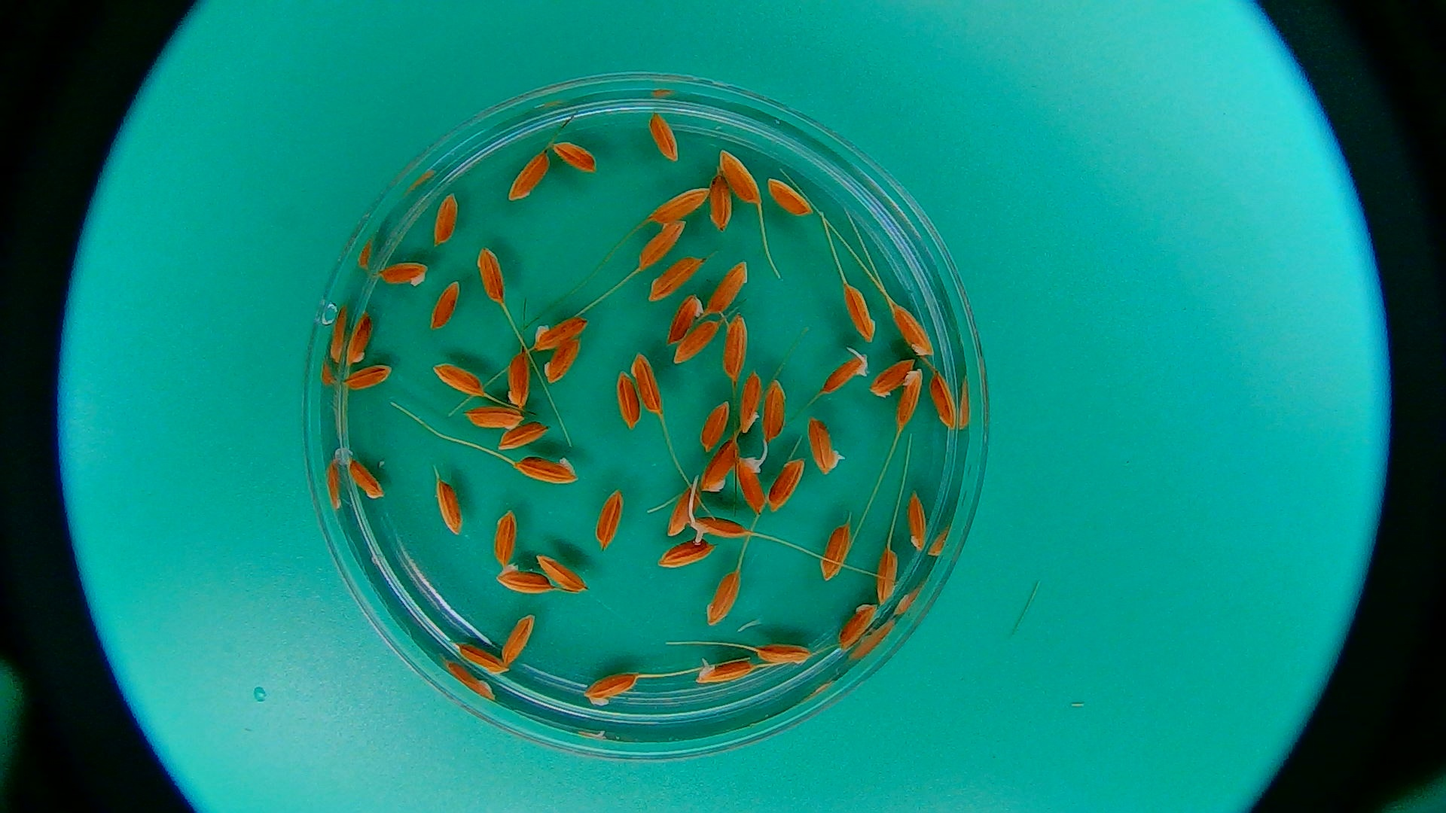no: (835, 276, 880, 351), (644, 253, 709, 304), (643, 185, 711, 232), (716, 145, 764, 209), (888, 300, 935, 360), (697, 435, 741, 498), (638, 221, 691, 273), (642, 102, 685, 166), (763, 168, 818, 218), (806, 413, 847, 480), (591, 486, 629, 556), (531, 551, 592, 594), (514, 454, 583, 492), (581, 670, 642, 712), (630, 349, 667, 418), (764, 458, 807, 516), (706, 259, 748, 318), (835, 599, 879, 655), (865, 356, 917, 402), (453, 641, 511, 682), (657, 537, 721, 574), (509, 150, 551, 206), (429, 477, 466, 540), (819, 522, 856, 585), (672, 318, 721, 365), (533, 315, 590, 354), (476, 243, 511, 306), (494, 563, 557, 598), (499, 609, 536, 668), (695, 397, 732, 456), (705, 569, 743, 626), (466, 401, 525, 437), (539, 340, 584, 387), (896, 364, 926, 434), (903, 486, 932, 558), (666, 479, 699, 541), (721, 312, 749, 385), (437, 360, 485, 402), (348, 455, 386, 508), (665, 294, 703, 346), (429, 190, 461, 251), (756, 641, 813, 674), (552, 134, 597, 175), (708, 171, 736, 236), (874, 545, 901, 612), (429, 279, 465, 329), (496, 421, 551, 453), (929, 370, 958, 430), (340, 362, 394, 393), (737, 367, 761, 436), (762, 376, 787, 442), (373, 260, 429, 289), (492, 504, 518, 566), (614, 367, 640, 429), (345, 308, 371, 367), (506, 349, 531, 410)
yes: (691, 654, 758, 693), (735, 446, 772, 515), (688, 510, 754, 542), (823, 350, 866, 394)
